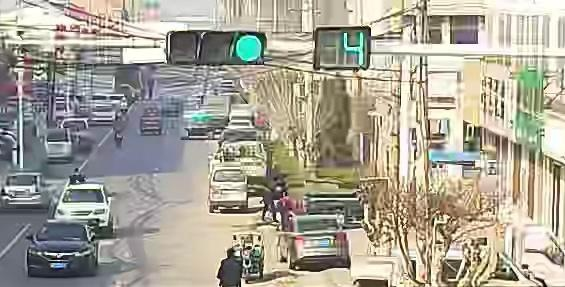green: (233, 33, 263, 64)
greentime: (341, 31, 370, 70)
